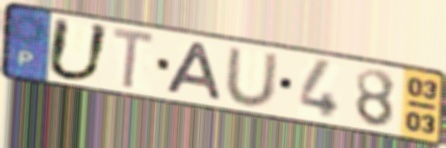4: (297, 55, 343, 123)
8: (353, 67, 397, 129)
A: (162, 40, 225, 104)
T: (110, 24, 158, 92)
U: (43, 15, 114, 83), (222, 46, 281, 111)
